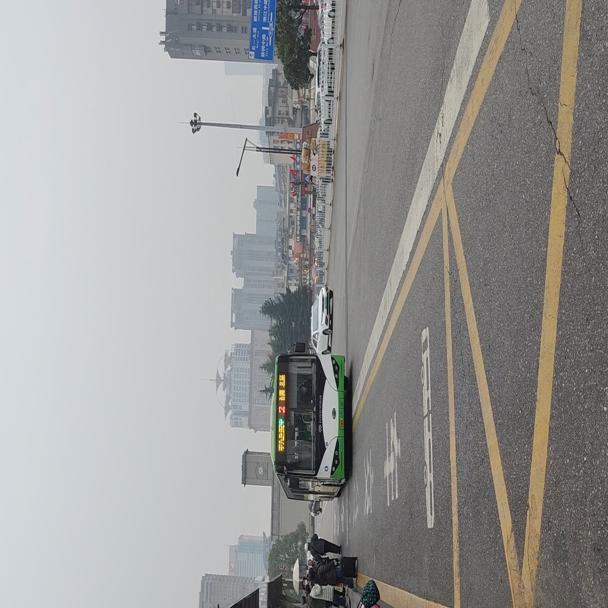bus: (271, 342, 348, 497)
screen: (272, 400, 288, 419)
